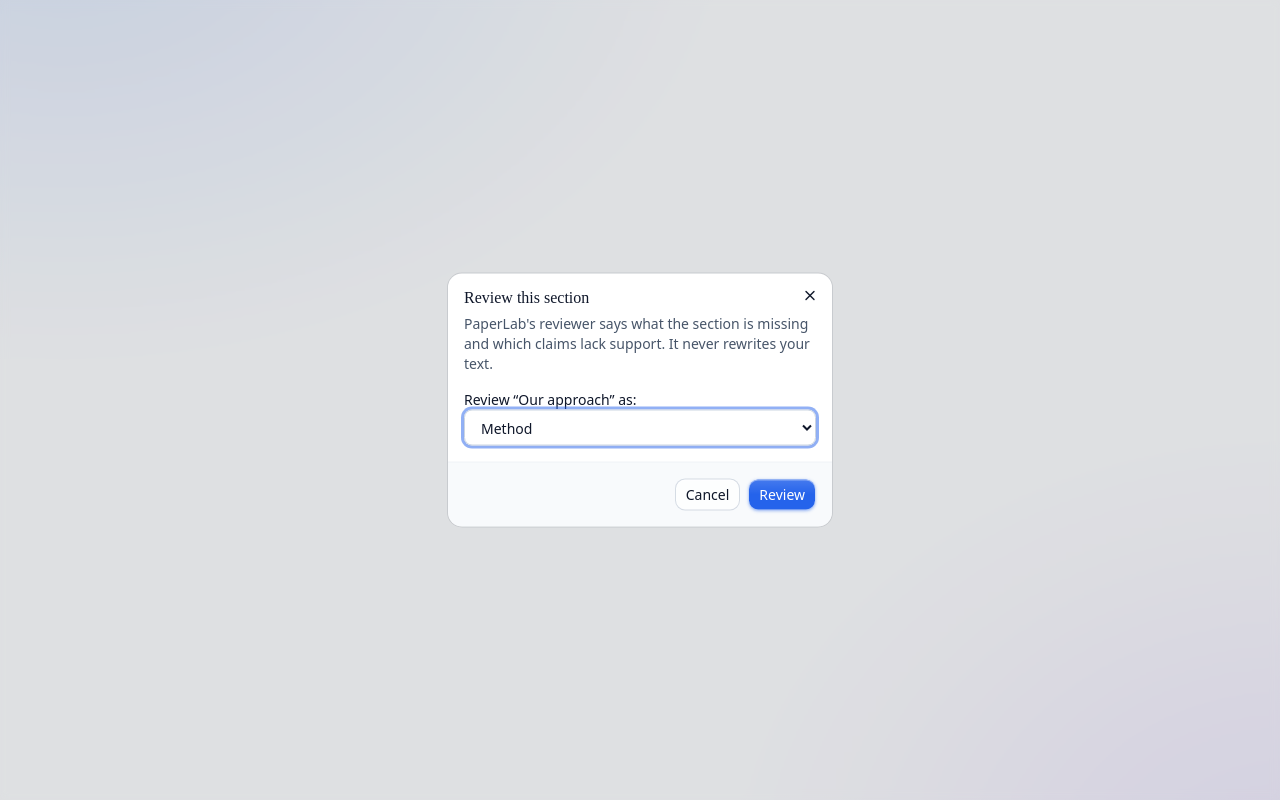
Test: a start error stays in the dialog in plain words
Click the button "Review".
click(782, 494)  # box [748, 478, 816, 510]
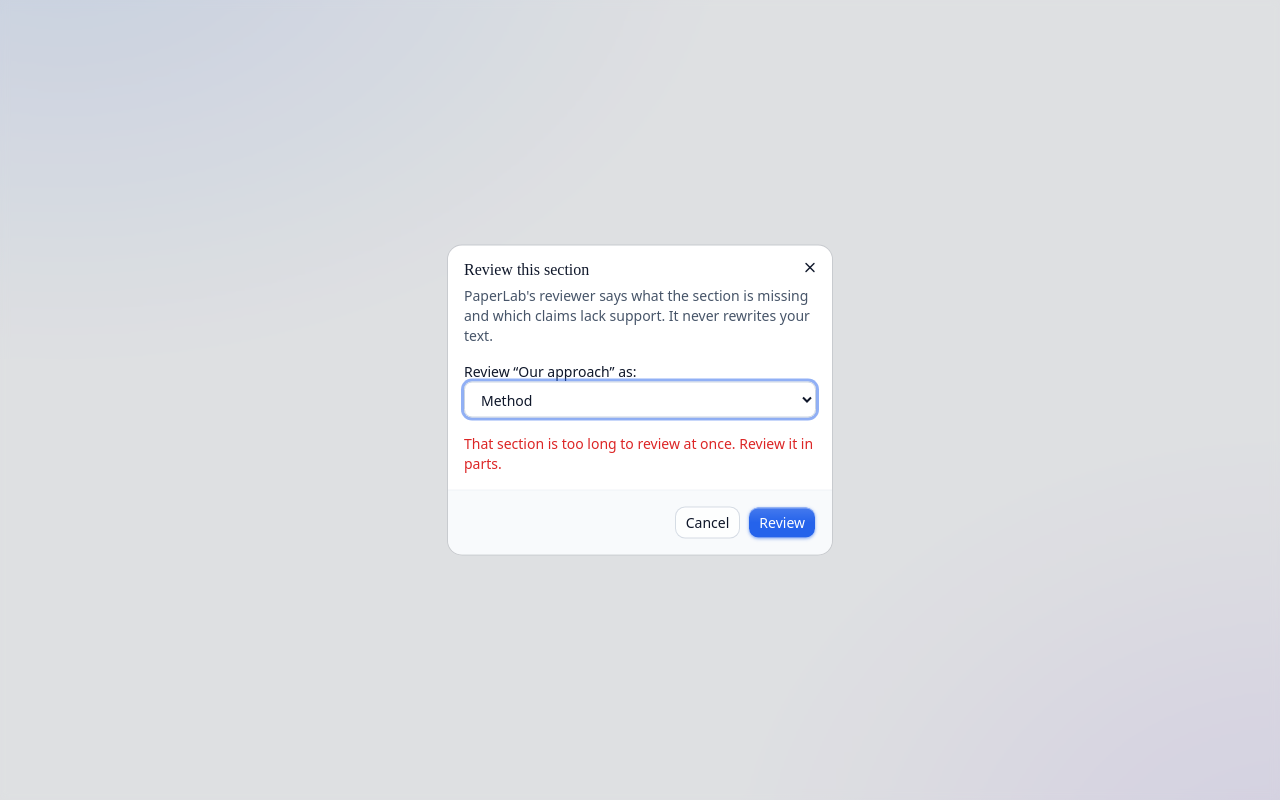
Now the message reads "That section is too long to review at once. Review it in parts.", box [464, 434, 813, 472]
